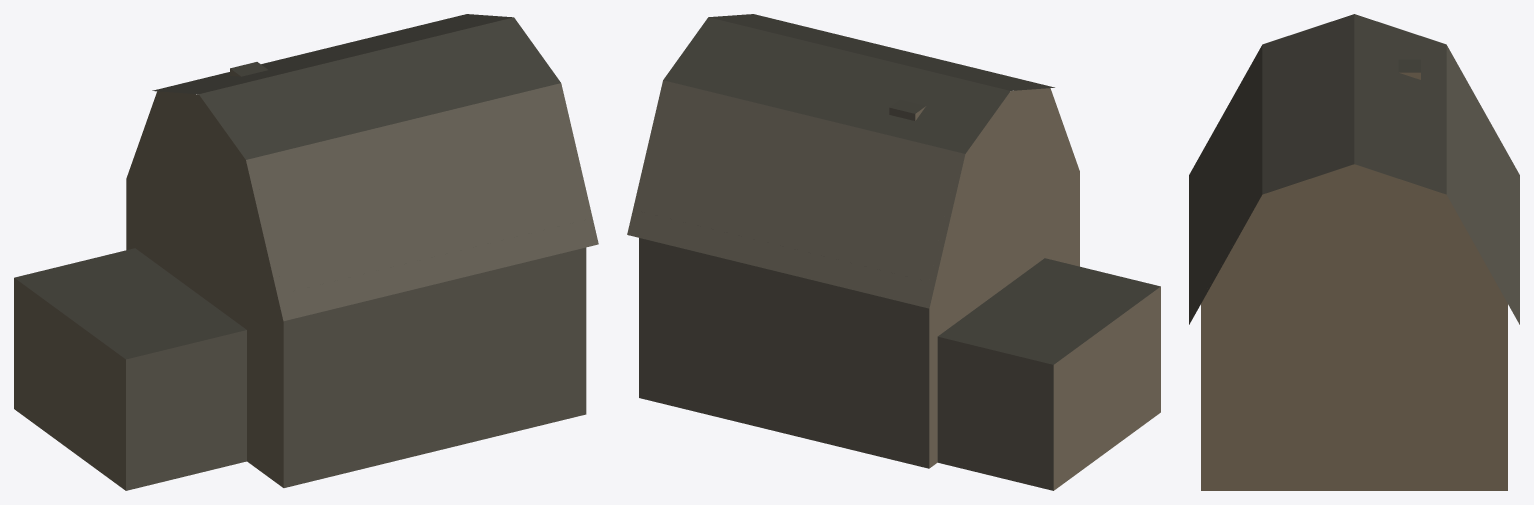
File: mh-gambrel-house.far-facades-v3.lod2.glb
3 views of the same model, side by side, from view 1: azimuth 30°, elevation 25°; view 2: azimuth 150°, elevation 25°; view 3: azimuth 270°, elevation 25° (orthographic). The views are drawn at different scales.
Parts seen in each view (by area): view 1: mh-gambrel-house; view 2: mh-gambrel-house; view 3: mh-gambrel-house.
Boxes of the visible parts, x1,y1,x2,y2 form: mh-gambrel-house: (14, 14, 598, 490); mh-gambrel-house: (627, 14, 1160, 490); mh-gambrel-house: (1189, 14, 1519, 490).
Bounding box in the file's own units: 14.21 × 10.67 × 9.7.
